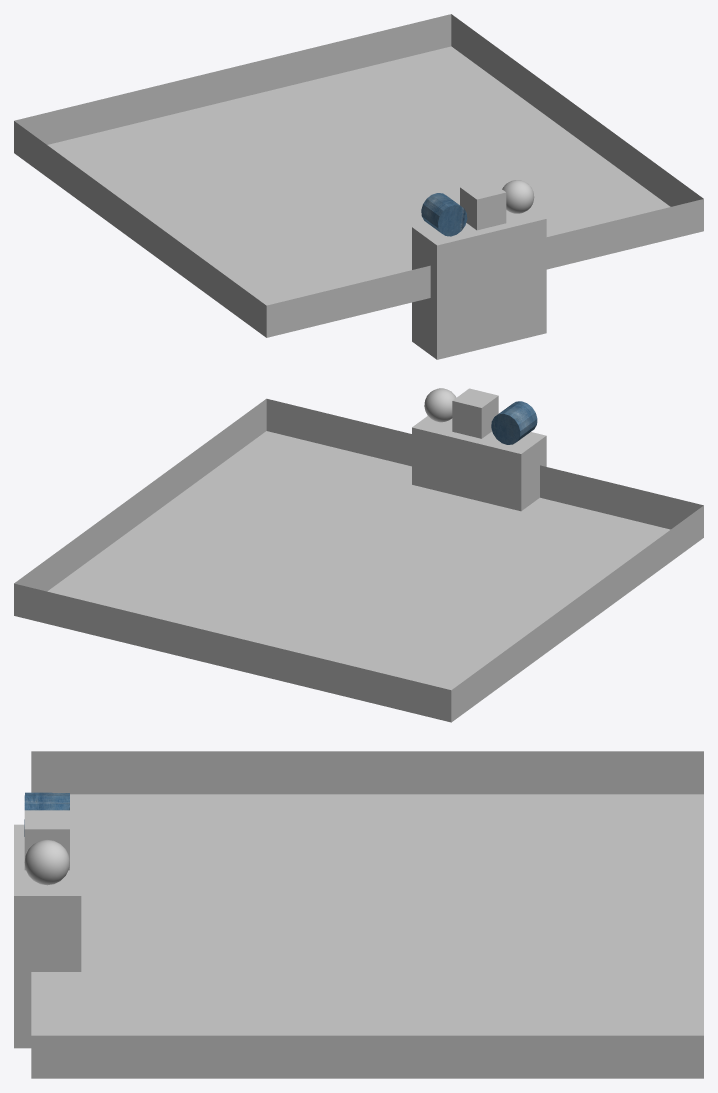
File: VRHands_scene.fbx
The picture shows the model from 3 angles, top to bottom: view 1: azimuth 30°, elevation 25°; view 2: azimuth 150°, elevation 25°; view 3: azimuth 270°, elevation 25°; orthographic projection. The views are drawn at different scales.
Visible parts, largest first — view 1: Plane.001, Cube, Cylinder, Icosphere; view 2: Plane.001, Cube, Cylinder, Icosphere; view 3: Plane.001, Cube, Icosphere, Cylinder.
Part boxes in pixels (x1,y1,x2,y2): Plane.001: (14,14,703,359); Cube: (460,180,506,230); Cylinder: (421,193,467,236); Icosphere: (502,180,534,213); Plane.001: (14,398,703,722); Cube: (452,388,498,438); Cylinder: (491,401,537,444); Icosphere: (424,388,456,422); Plane.001: (14,751,703,1078); Cube: (24,810,69,870); Icosphere: (24,839,69,885); Cylinder: (24,792,69,836).
Bounding box in the file's own units: 800 × 257 × 821.
